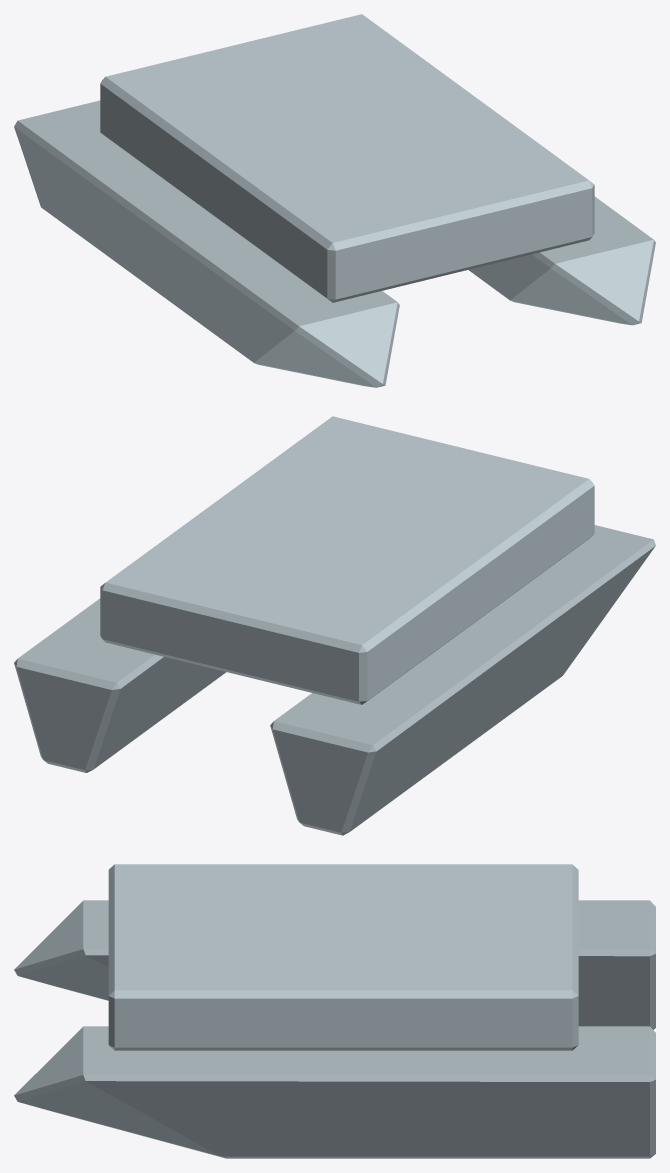
File: catamaran_hull_light.glb
3 renders of one model, top to bottom at view 1: azimuth 30°, elevation 25°; view 2: azimuth 150°, elevation 25°; view 3: azimuth 270°, elevation 25°, orthographic.
Parts seen in each view (by area): view 1: catamaran_hull_light; view 2: catamaran_hull_light; view 3: catamaran_hull_light.
Boxes of the visible parts, left/top/right/bottom form: catamaran_hull_light: left=14, top=14, right=655, bottom=387; catamaran_hull_light: left=14, top=416, right=655, bottom=835; catamaran_hull_light: left=14, top=864, right=655, bottom=1158.
Size of the model in its own units: 3.37 by 1.4 by 5.13.
